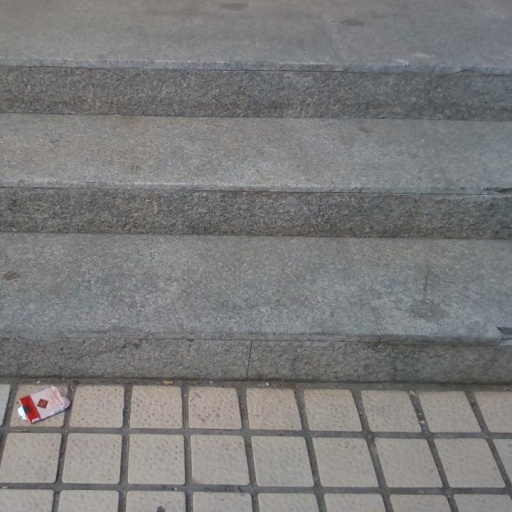Stairs: (0, 65, 512, 382)
